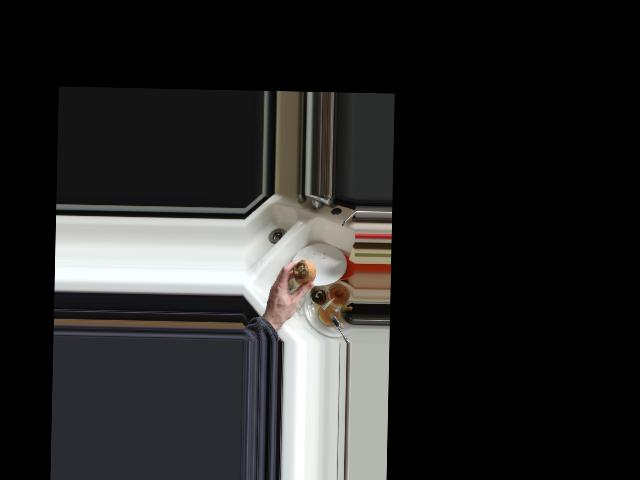sweet_potato: (291, 258, 317, 290)
